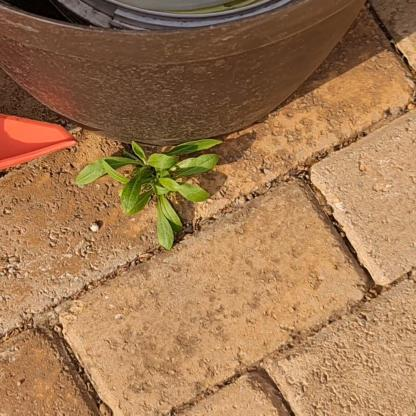Weeds: (76, 138, 226, 250)
